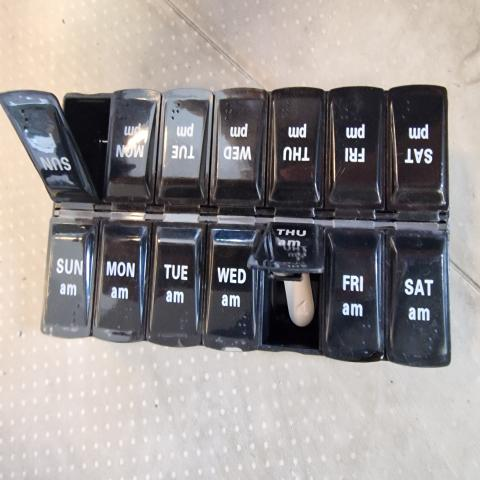Open: (251, 229, 328, 351), (60, 93, 109, 198)
